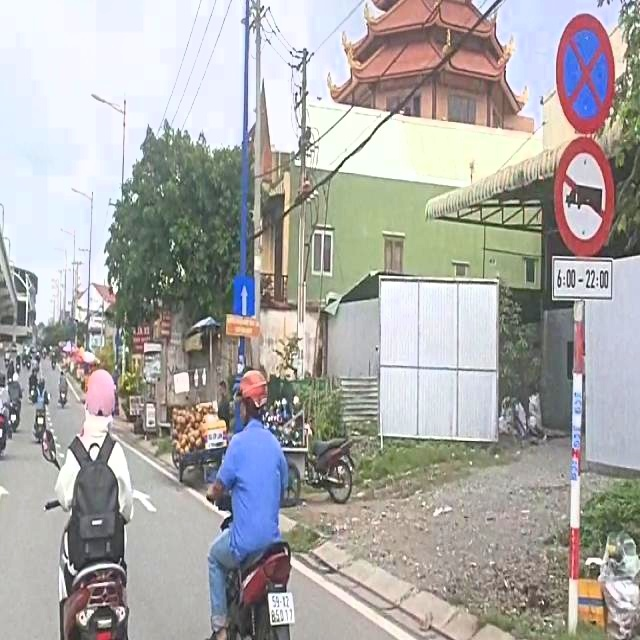B.8a: (554, 138, 614, 259)
P.130: (557, 14, 615, 134)
